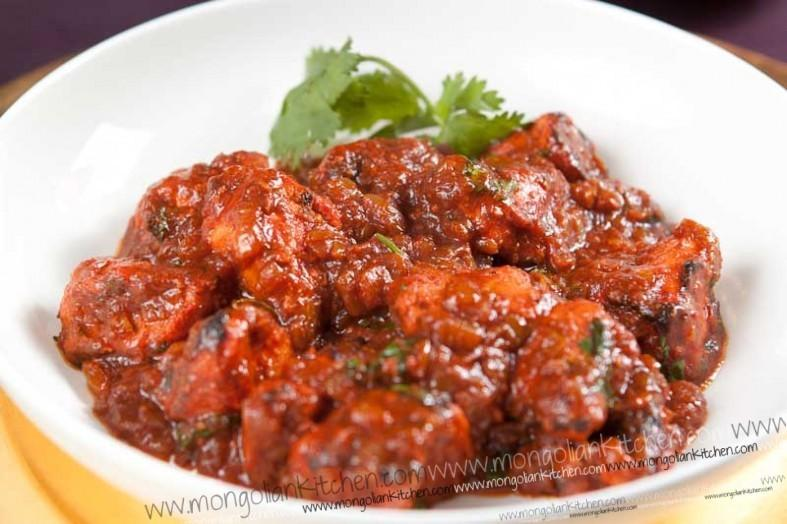chicken: (74, 134, 750, 497)
